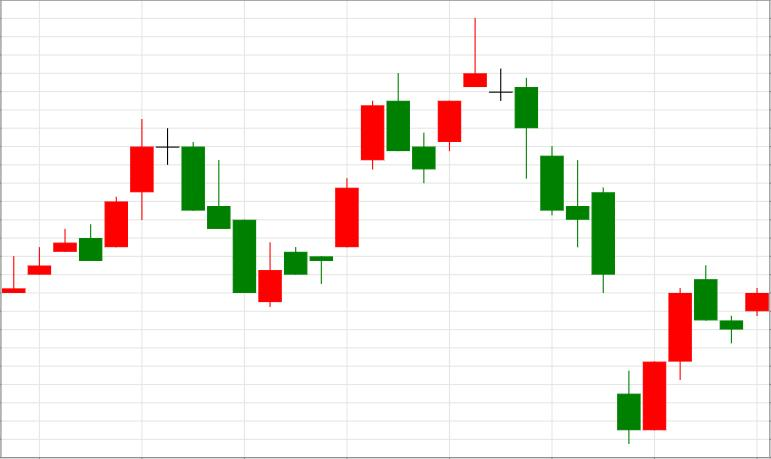evening_star_fall: (2, 119, 206, 294)
